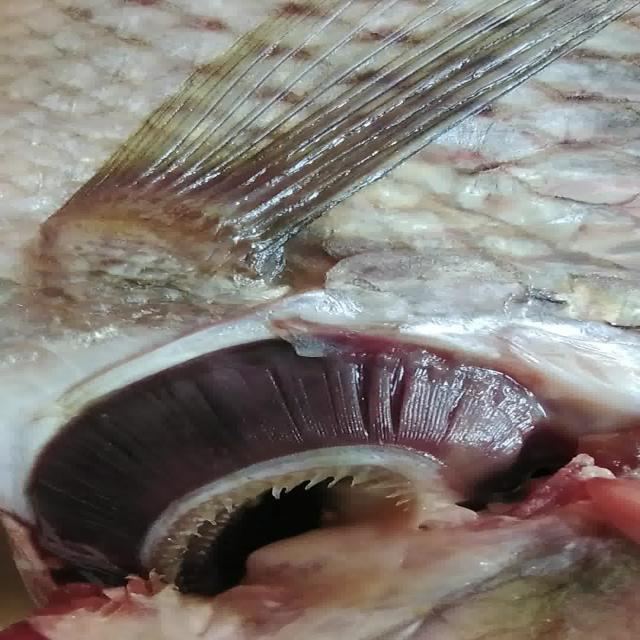Non-Fresh: (51, 321, 544, 569)
